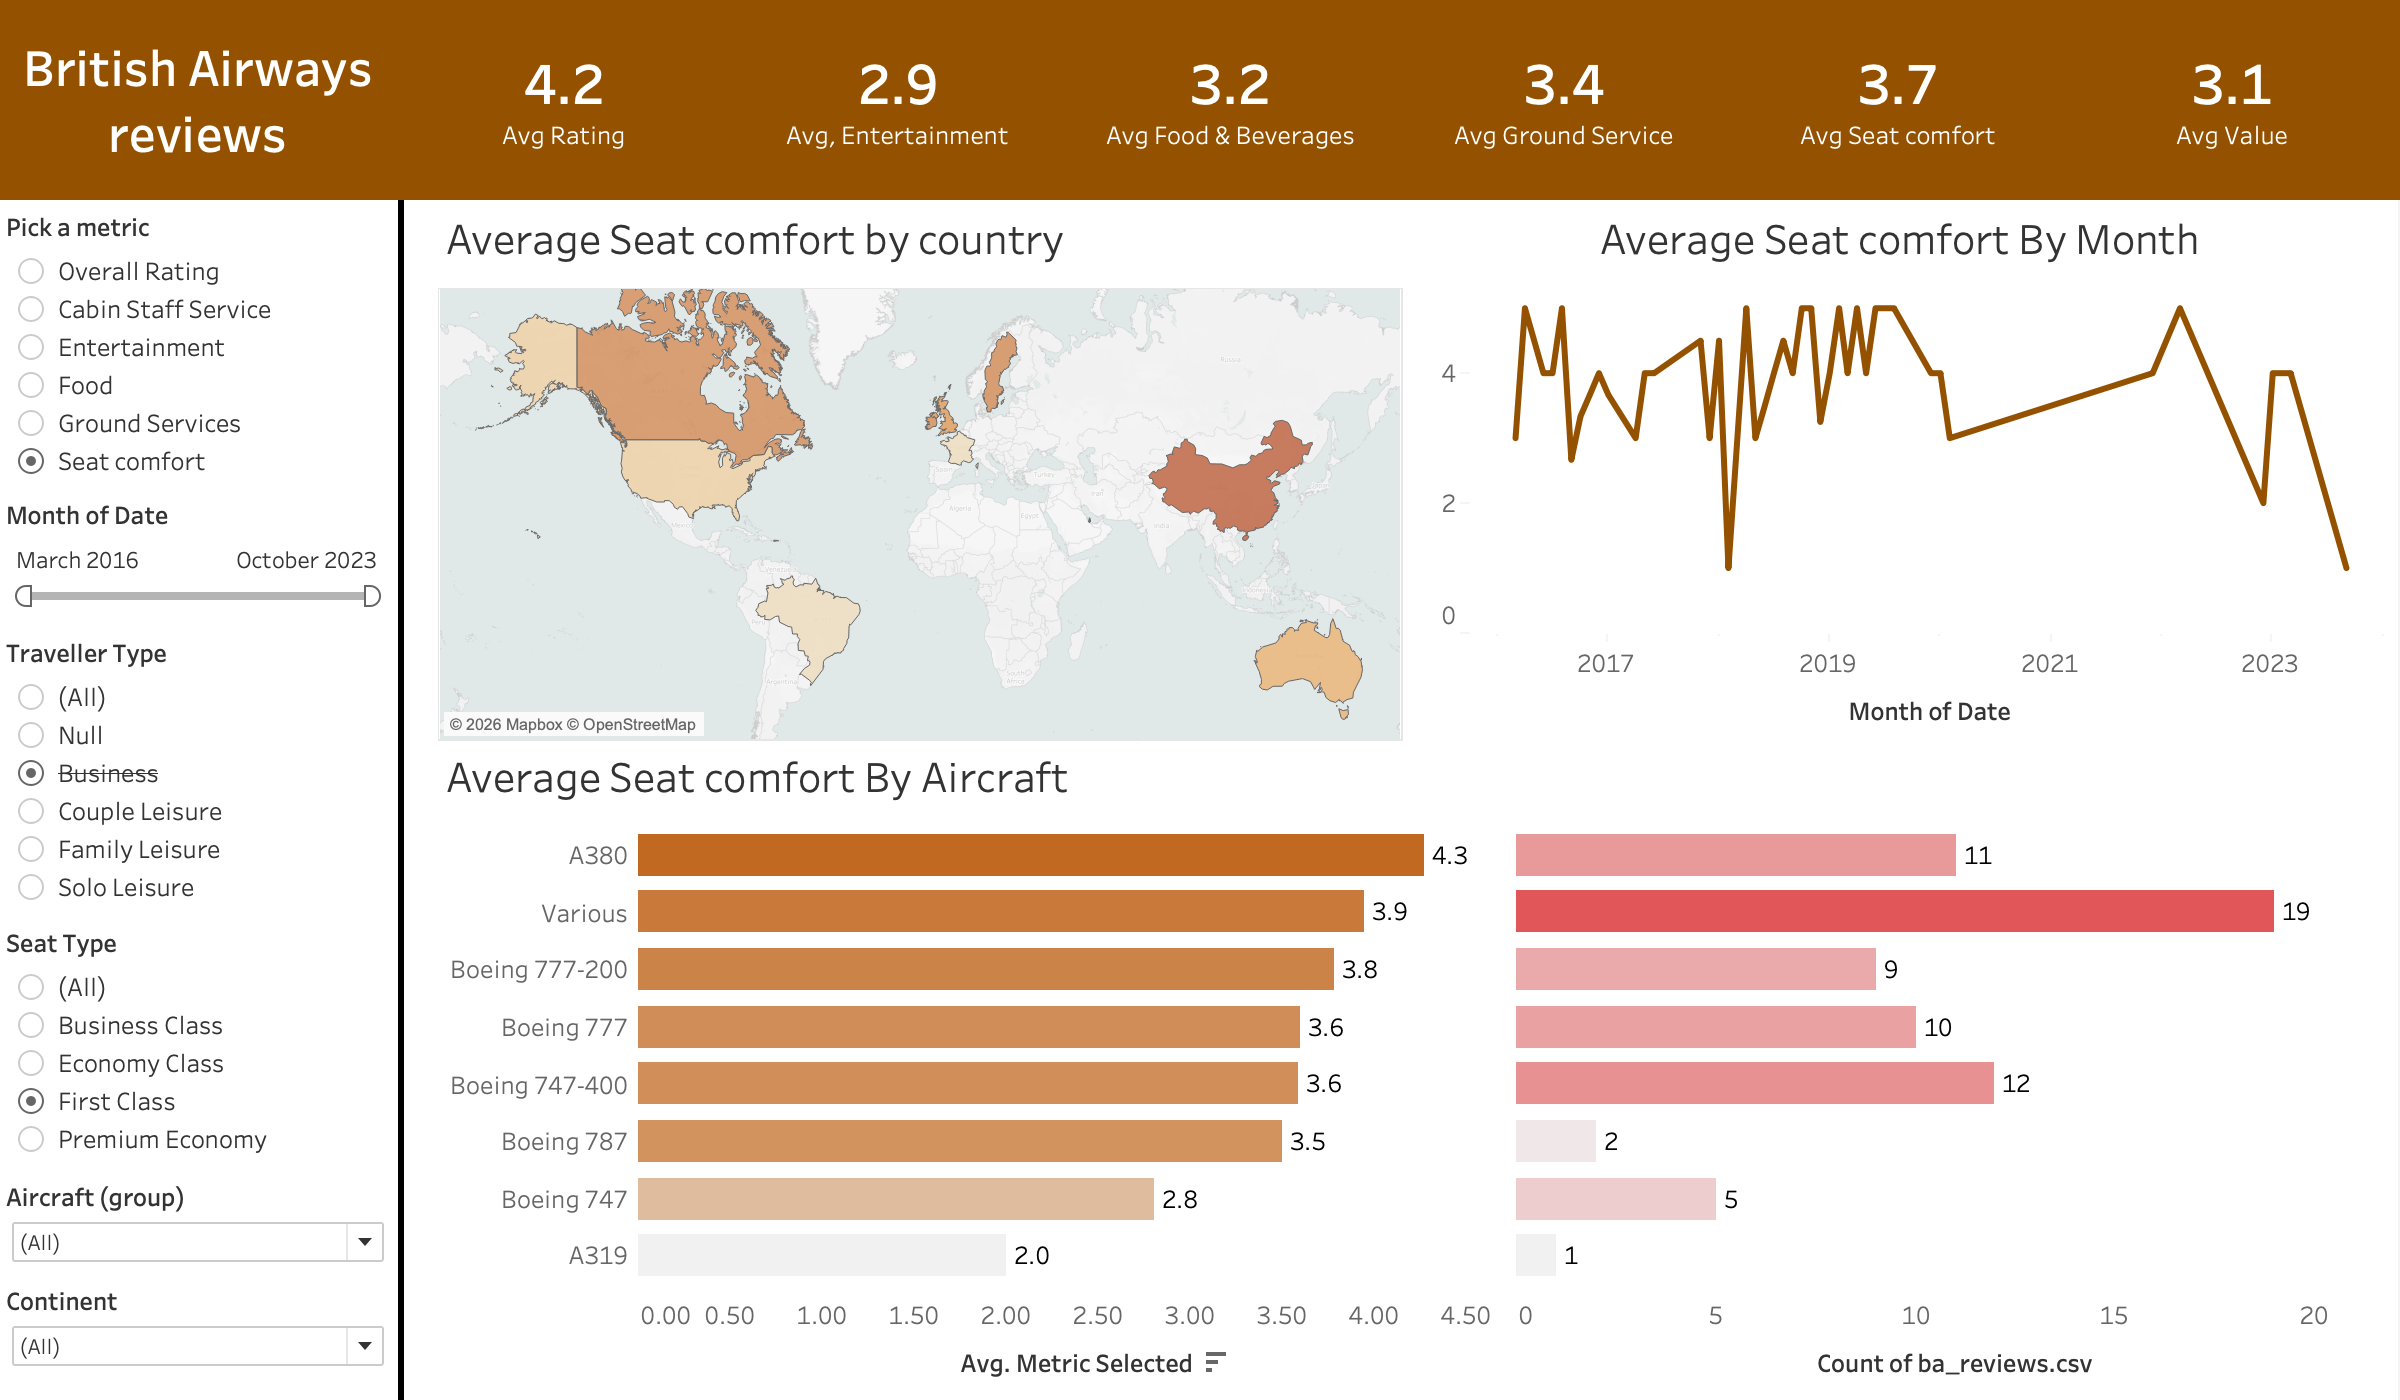

The page's visual inventory and layout, read from the dashboard file:
{"tool":"tableau","page":{"name":"Dashboard 1","canvas":[1200,700],"ordinal":0},"visuals":[{"type":"text","box":[0,0,200,100]},{"type":"worksheet","title":"Summary","mark":"Automatic","box":[200,0,1001,100]},{"type":"blank","box":[200,100,3,600]},{"type":"parameter","param":"[Parameters].[Parameter 1]","box":[0,101,200,144.5]},{"type":"worksheet","title":"Map","mark":"Multipolygon","box":[220,101,483,270]},{"type":"worksheet","title":"Month","mark":"Line","rows":["Calculation_0881585973014535"],"cols":["date"],"box":[706,101,490,270]},{"type":"filter","title":"Map","param":"[federated.1u0rrs800ov66l1asowor0wg1f1i].[tmn:date:qk]","box":[0,245.5,200,69]},{"type":"filter","title":"Map","param":"[federated.1u0rrs800ov66l1asowor0wg1f1i].[none:traveller_type:nk]","box":[0,314.5,200,144.5]},{"type":"filter","title":"Map","param":"[federated.1u0rrs800ov66l1asowor0wg1f1i].[none:seat_type:nk]","box":[0,459,200,127]},{"type":"filter","title":"Map","param":"[federated.1u0rrs800ov66l1asowor0wg1f1i].[Aircraft (group)]","box":[0,586,200,52]},{"type":"filter","title":"Map","param":"[federated.1u0rrs800ov66l1asowor0wg1f1i].[none:Continent:nk]","box":[0,638,200,52]}]}

Visuals, with their boxes in screenshot pixels (x1, y1, x2, y2), scaled from the page's 1200x700 canvas onto the 2400x1400 screenshot:
text: left=0, top=0, right=400, bottom=200
"Summary" worksheet: left=400, top=0, right=2399, bottom=200
blank: left=400, top=200, right=406, bottom=1399
parameter: left=0, top=202, right=400, bottom=491
"Map" worksheet (Multipolygon marks): left=440, top=202, right=1406, bottom=742
"Month" worksheet (Line marks): left=1412, top=202, right=2392, bottom=742
"Map" filter: left=0, top=491, right=400, bottom=629
"Map" filter: left=0, top=629, right=400, bottom=918
"Map" filter: left=0, top=918, right=400, bottom=1172
"Map" filter: left=0, top=1172, right=400, bottom=1276
"Map" filter: left=0, top=1276, right=400, bottom=1380
